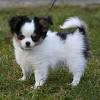Chihuahua: (7, 8, 94, 91)
